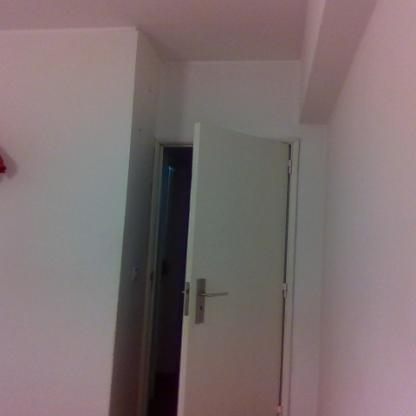semi: (128, 126, 313, 410)
